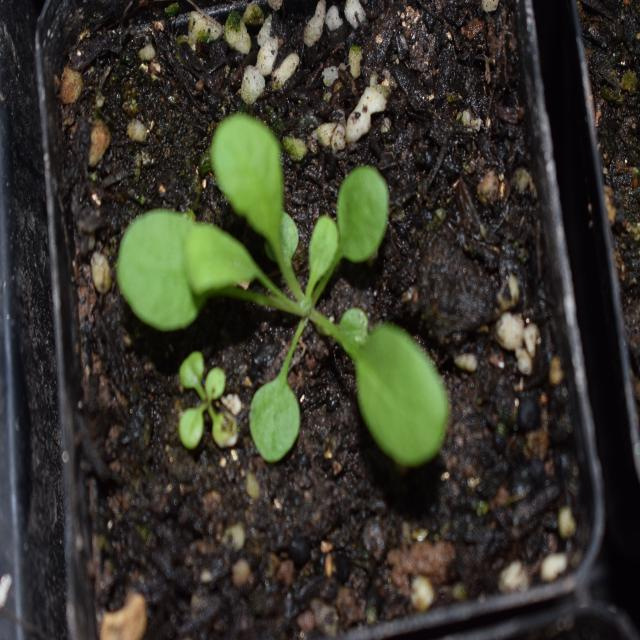Shepherd_Purse: (122, 110, 452, 464)
